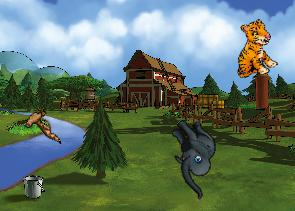eagle: (14, 103, 65, 144)
elephant: (149, 111, 238, 200)
tiger: (222, 17, 283, 83)
